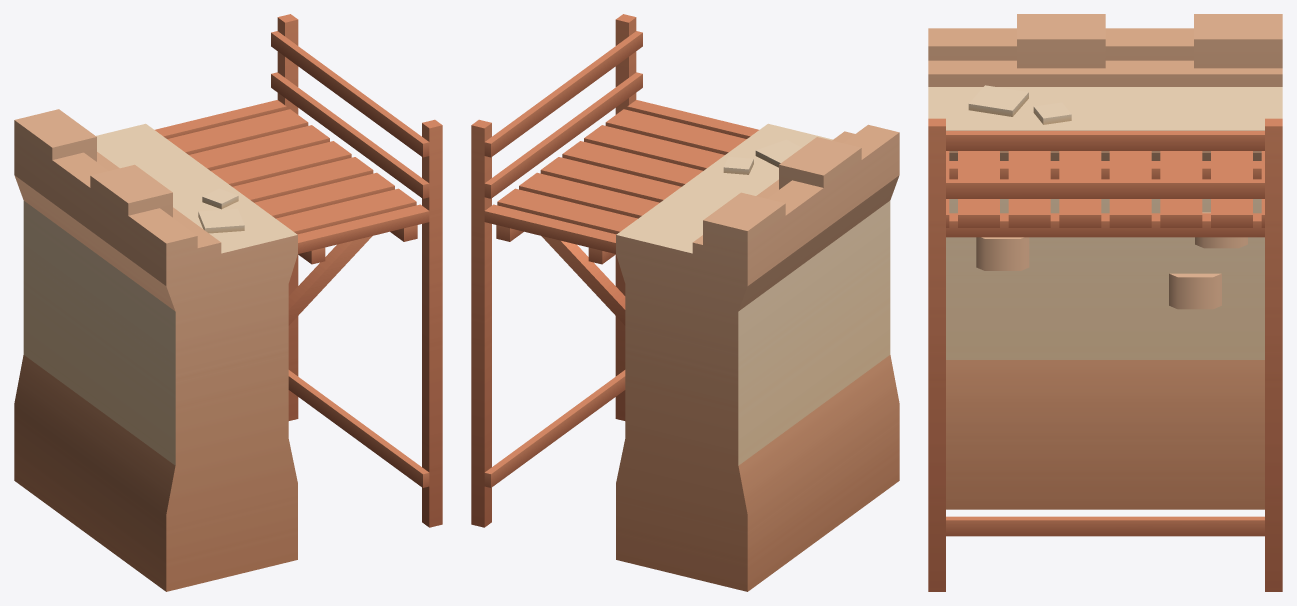
Rendered from wall-narrow-wood-fence.obj.
3 renders of one model, left to right at view 1: azimuth 30°, elevation 25°; view 2: azimuth 150°, elevation 25°; view 3: azimuth 270°, elevation 25°, orthographic. The views are drawn at different scales.
Visible parts, largest first — view 1: wall-narrow-wood-fence; view 2: wall-narrow-wood-fence; view 3: wall-narrow-wood-fence.
Part boxes in pixels (x1,y1,x2,y2): wall-narrow-wood-fence: (14,14,442,591); wall-narrow-wood-fence: (471,14,899,591); wall-narrow-wood-fence: (928,14,1282,591).
Size of the model in its own units: 1.05 by 1.45 by 1.
1 material, 1 textured.
